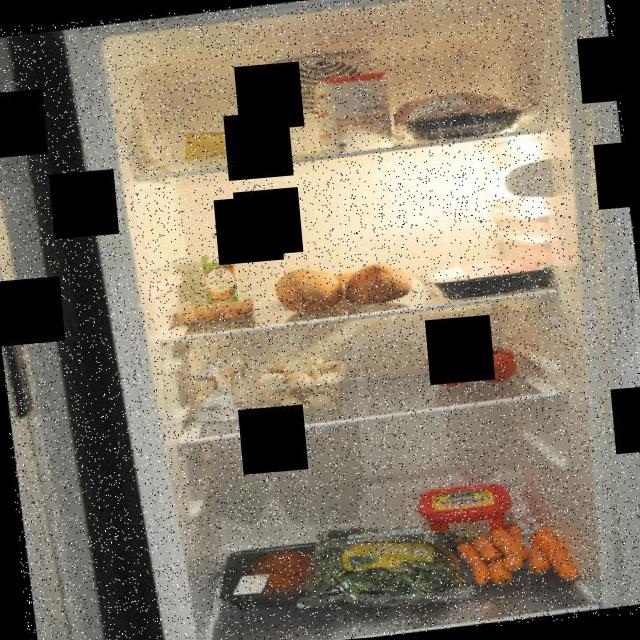Carne pollo: (386, 82, 526, 146)
Carne vacuno: (211, 538, 339, 612)
Champiñones: (260, 348, 352, 416)
Gambas/Langostinos: (178, 295, 255, 326)
Mantequilla: (413, 478, 516, 546)
Queso: (174, 118, 274, 167)
Tomate: (423, 328, 520, 391)
Zanahoria: (452, 512, 586, 596)
